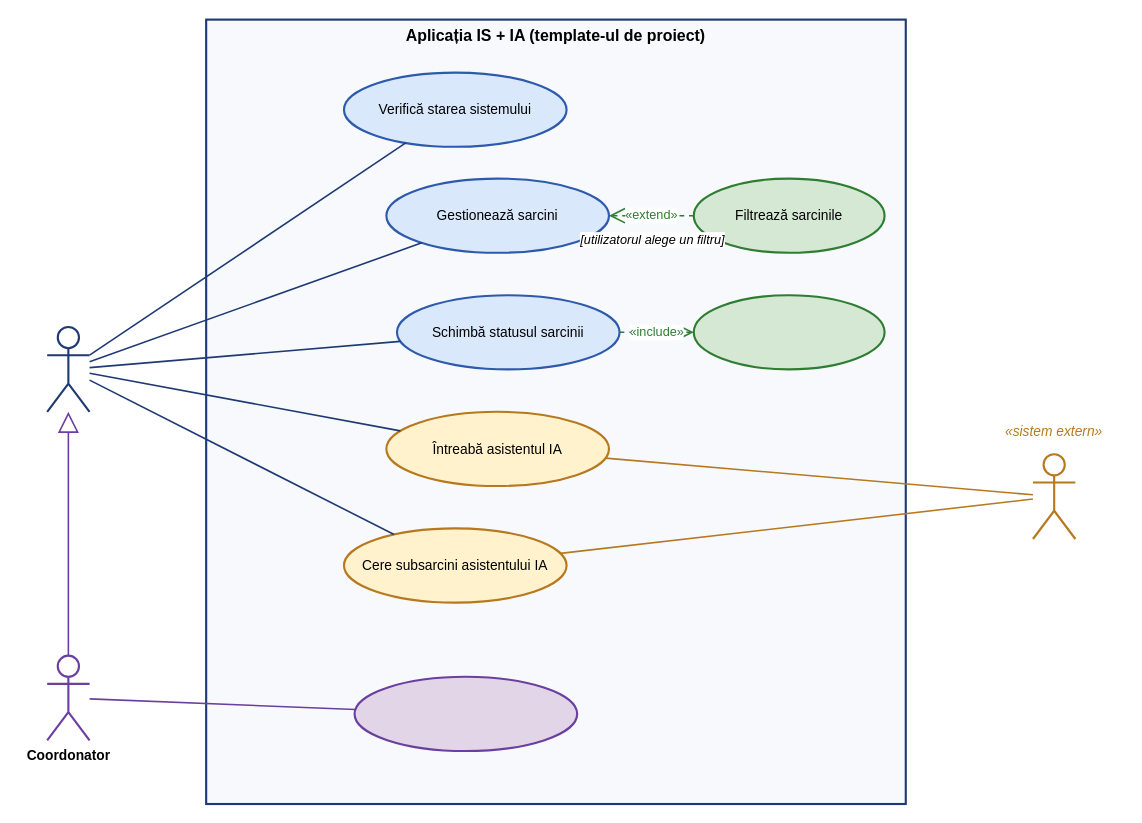
Image size: 1142x823. Some labels were removed from this diagram. The box of each missing label's shape, as (x1, y1, x2, y2) in pixels:
Asistent IA (Ollama): (1031, 453, 1076, 540)
Gestionează proiecte: (353, 675, 578, 752)
Membru echipă (student): (46, 325, 90, 412)
Verifică tranziția permisă: (692, 294, 885, 370)
